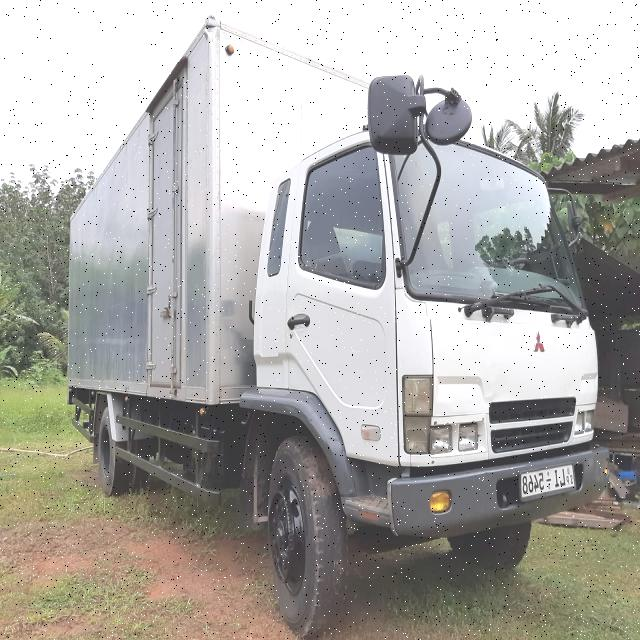truck: (64, 18, 620, 634)
